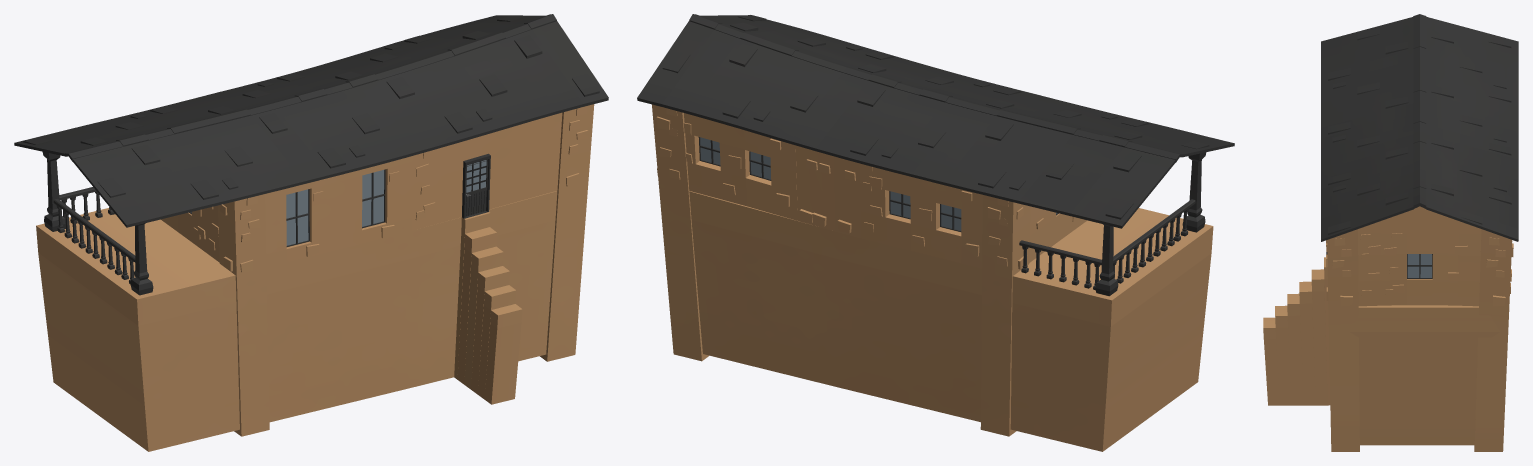
The model's file is 3 skewed - col.glb.
The picture shows the model from 3 angles, left to right: view 1: azimuth 30°, elevation 25°; view 2: azimuth 150°, elevation 25°; view 3: azimuth 270°, elevation 25°; orthographic projection. The views are drawn at different scales.
Parts seen in each view (by area): view 1: 3 skewed - col.001; view 2: 3 skewed - col.001; view 3: 3 skewed - col.001.
Part boxes in pixels (x1=…): 3 skewed - col.001: x1=14, y1=14, x2=608, y2=451; 3 skewed - col.001: x1=637, y1=14, x2=1234, y2=451; 3 skewed - col.001: x1=1263, y1=14, x2=1518, y2=451.
Bounding box in the file's own units: 37.95 × 22.25 × 19.7.
Materials: 4 (1 with a texture image).
